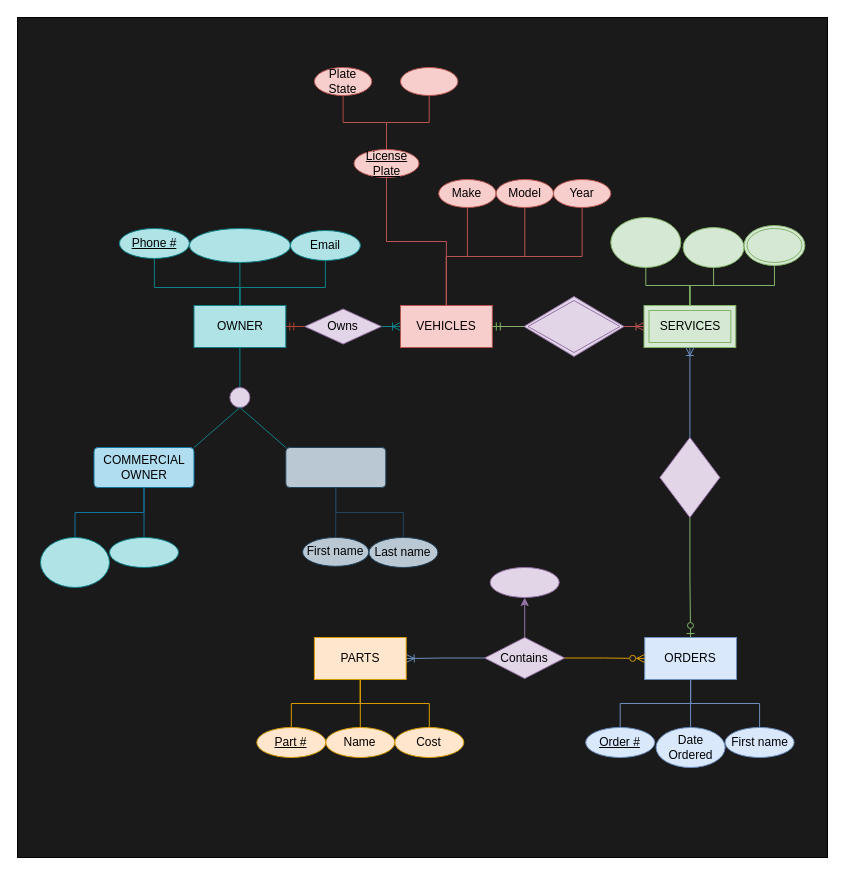
The diagram is 845 pixels wide and 875 high, and some of its shapes have lost their labels. Here are the shapes that lost their labels. From the top down, the box of each, then its label:
(400, 66, 458, 96): Plate number
(188, 228, 290, 262): Date of First Service
(610, 216, 681, 268): Date of Service
(682, 226, 744, 268): Price
(743, 224, 805, 266): Type
(523, 296, 624, 356): Receives
(285, 446, 386, 488): INDIVIDUAL OWNER
(659, 436, 720, 518): Needs Parts
(40, 536, 110, 588): Business Name
(108, 536, 178, 568): Tax ID
(489, 566, 559, 598): Quantity
